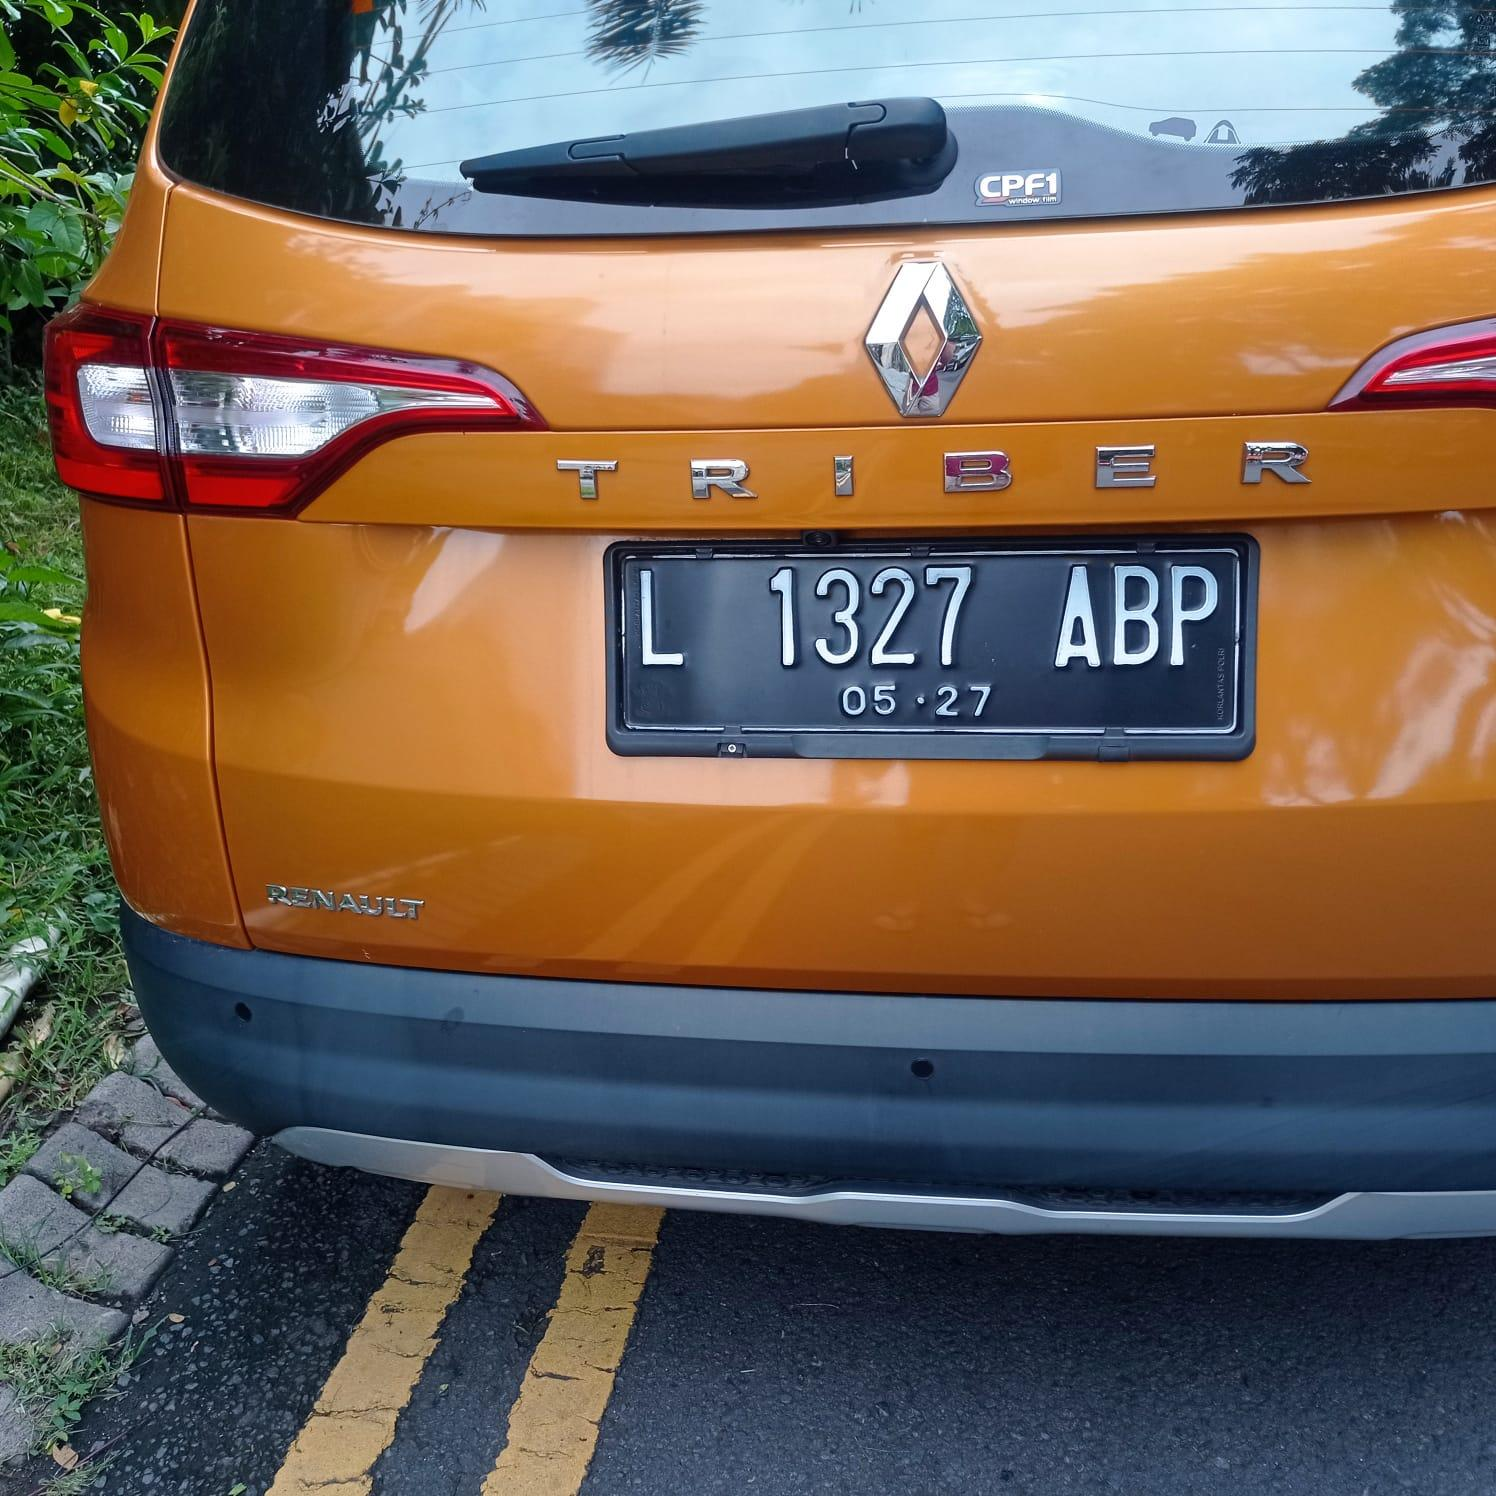plat: (608, 537, 1254, 760)
